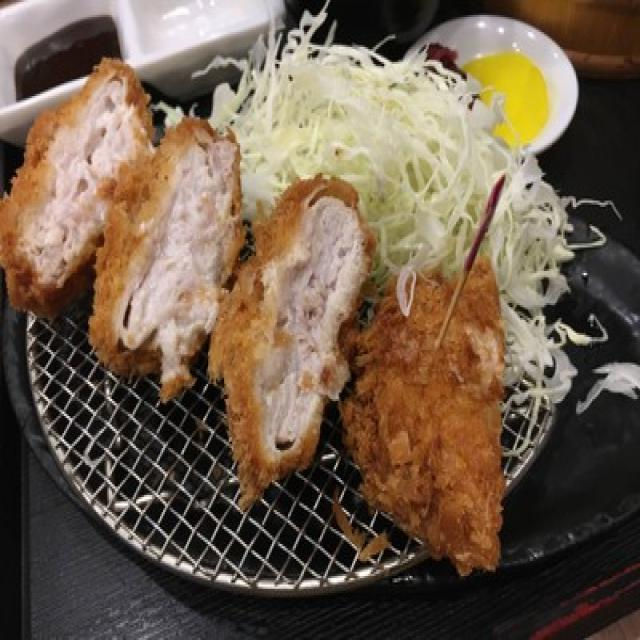cac loai rau cu: (185, 16, 586, 337)
thit heo: (193, 167, 381, 500), (329, 256, 516, 580), (1, 48, 173, 316), (84, 131, 255, 391)
